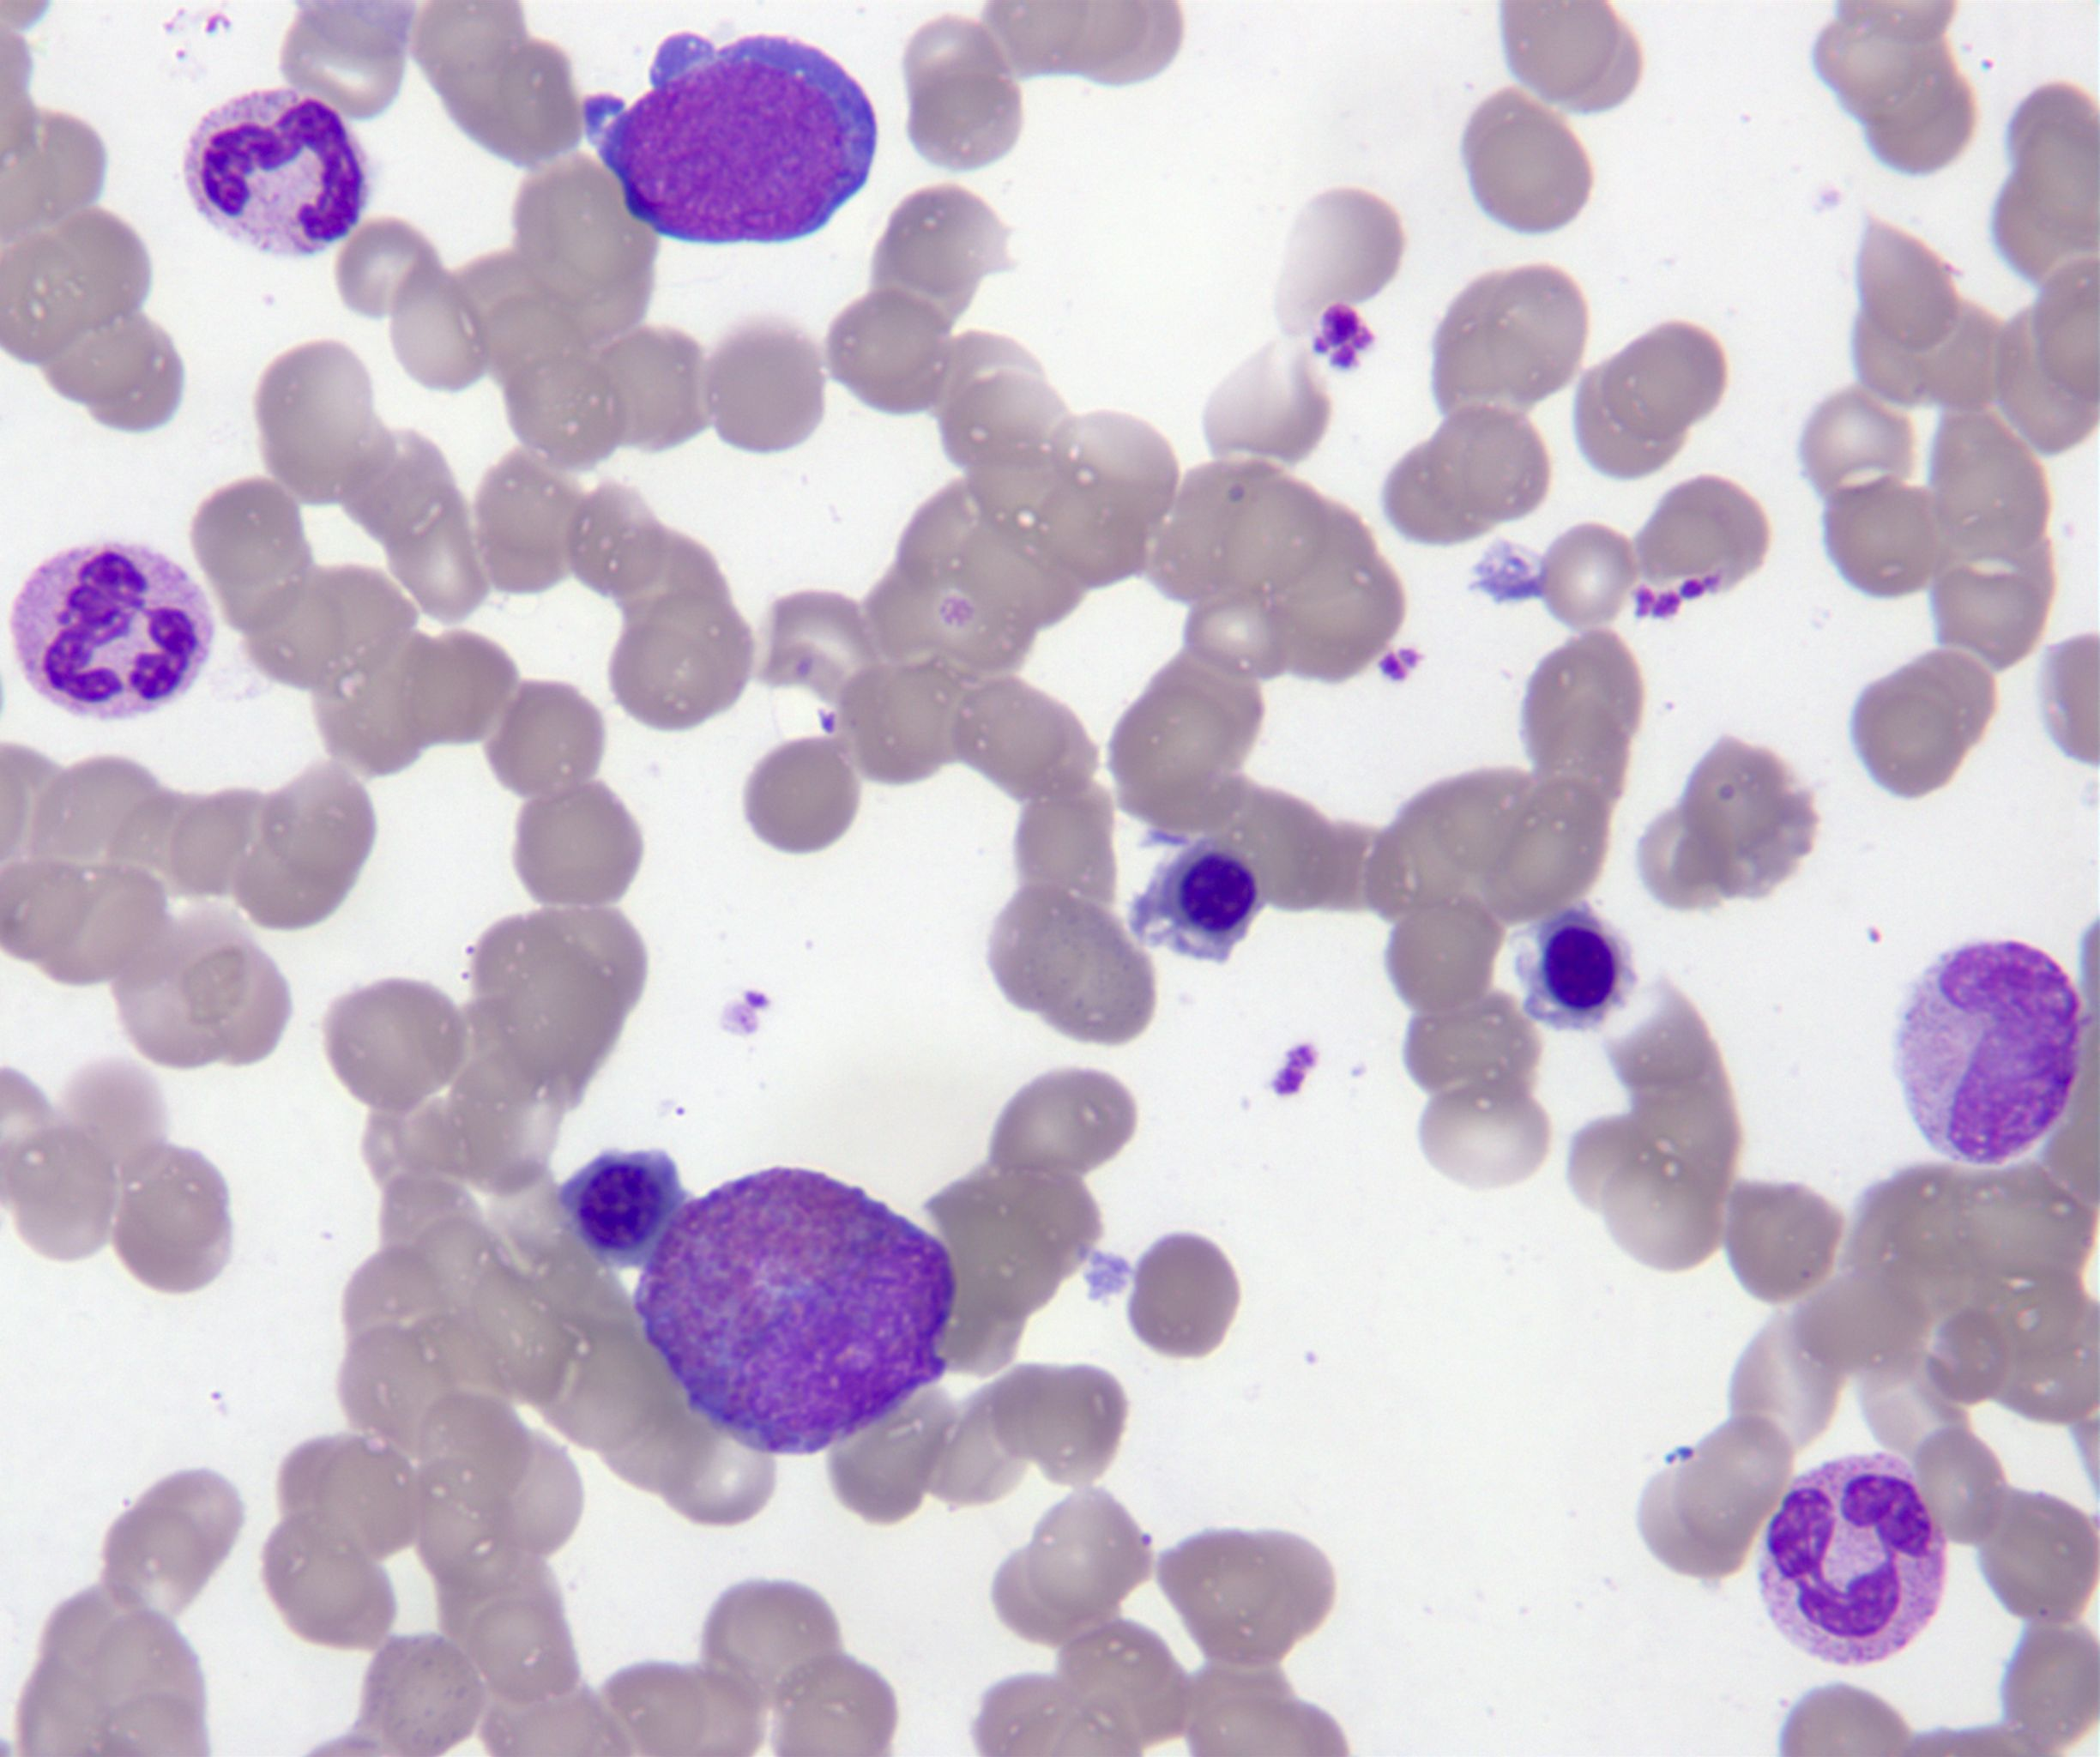21: (579, 26, 879, 248)
23: (555, 1141, 692, 1277)
24: (1505, 899, 1641, 1042), (1127, 831, 1265, 968)
4: (1889, 939, 2086, 1171)
5: (178, 80, 378, 258)
6: (1753, 1448, 1953, 1673), (5, 536, 220, 724)
x: (630, 1164, 958, 1459)
